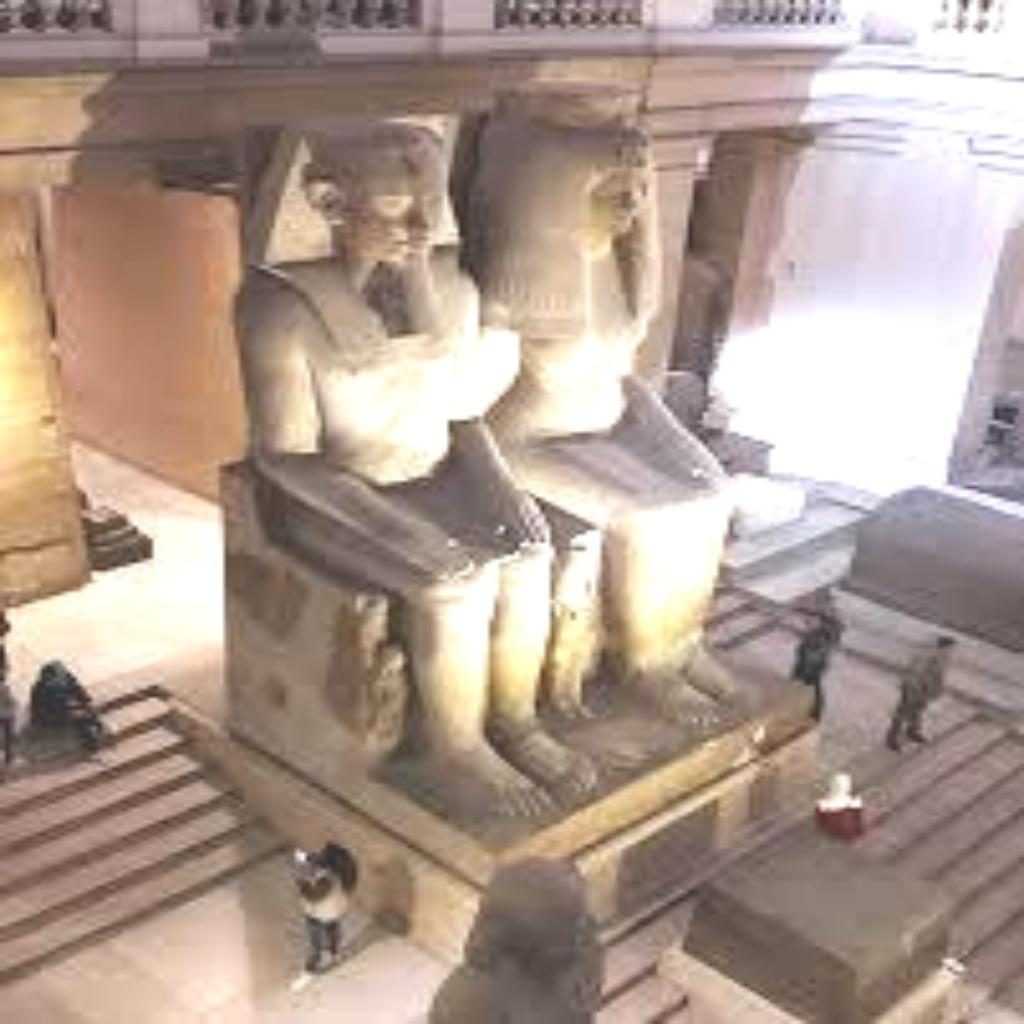Amenhotep III and Tiye: (239, 110, 777, 824)
